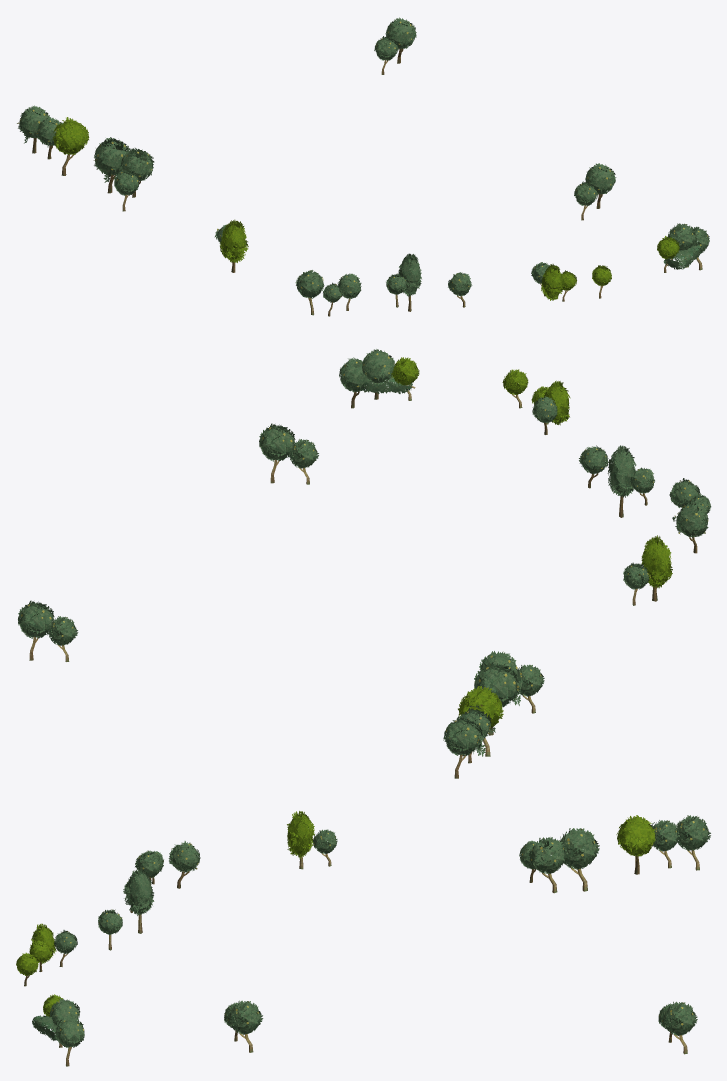
The model's file is pref_sm_beach_bk_pointmol_techqiutree_R_lv2.fbx.
The picture shows the model from 3 angles, top to bottom: view 1: azimuth 30°, elevation 25°; view 2: azimuth 150°, elevation 25°; view 3: azimuth 270°, elevation 25°; orthographic projection. The views are drawn at different scales.
Parts seen in each view (by area): view 1: pref_sm_beach_bk_pointmol_techqiutree_R_lv2; view 2: pref_sm_beach_bk_pointmol_techqiutree_R_lv2; view 3: pref_sm_beach_bk_pointmol_techqiutree_R_lv2.
Part boxes in pixels (bbox=[...]): pref_sm_beach_bk_pointmol_techqiutree_R_lv2: bbox=[17, 17, 709, 316]; pref_sm_beach_bk_pointmol_techqiutree_R_lv2: bbox=[18, 349, 711, 778]; pref_sm_beach_bk_pointmol_techqiutree_R_lv2: bbox=[16, 811, 710, 1066].
Bounding box in the file's own units: 53.76 × 9.13 × 73.72.
